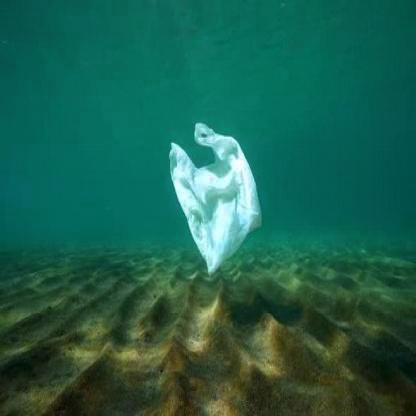pbag: (158, 118, 270, 274)
